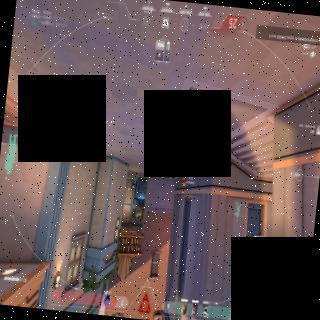ENEMY-BODY: (129, 178, 134, 192)
ENEMY-HEAD: (130, 188, 132, 192)
